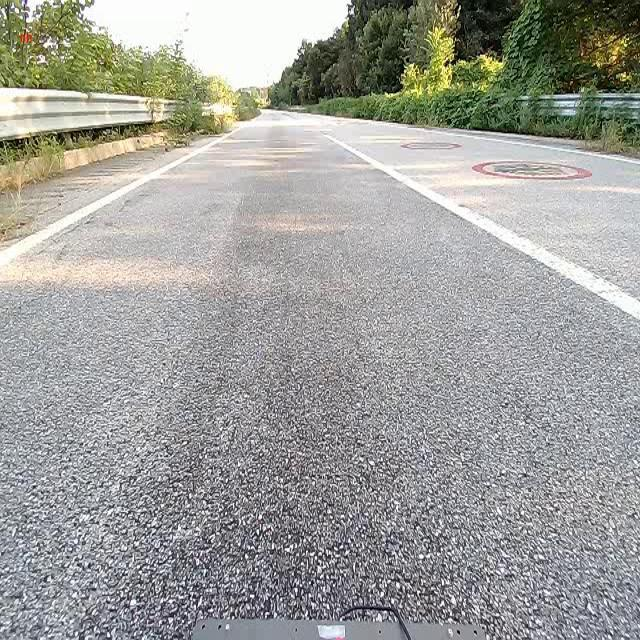Lane: (318, 120, 640, 328), (325, 135, 639, 320), (0, 108, 248, 282), (0, 127, 241, 271)
